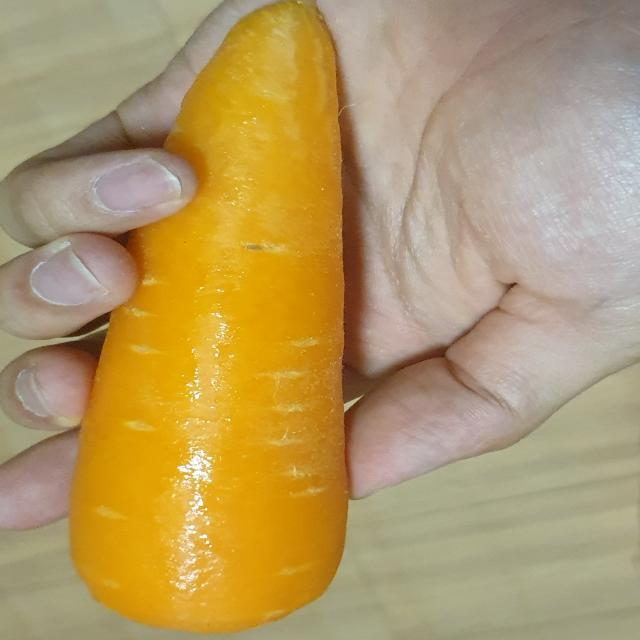carrot: (63, 0, 368, 633)
